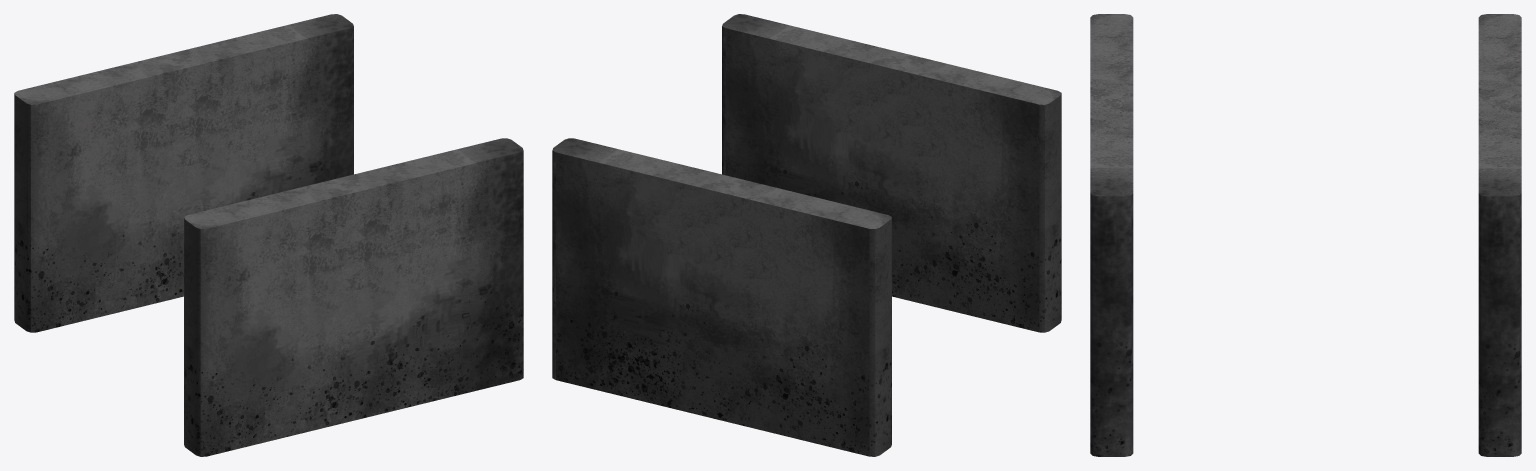
The model's file is MR_Corridor_L_Tex.fbx.
3 views of the same model, side by side, from view 1: azimuth 30°, elevation 25°; view 2: azimuth 150°, elevation 25°; view 3: azimuth 270°, elevation 25° (orthographic). The views are drawn at different scales.
Visible parts, largest first — view 1: pasted__pasted__pasted__M_Wall_Single, pasted__pasted__M_Wall_Single; view 2: pasted__pasted__M_Wall_Single, pasted__pasted__pasted__M_Wall_Single; view 3: pasted__pasted__pasted__M_Wall_Single, pasted__pasted__M_Wall_Single.
Boxes of the visible parts, box(x1,y1,x2,y2) form: pasted__pasted__pasted__M_Wall_Single: box(184, 138, 523, 456); pasted__pasted__M_Wall_Single: box(14, 14, 353, 332); pasted__pasted__M_Wall_Single: box(552, 138, 891, 456); pasted__pasted__pasted__M_Wall_Single: box(722, 14, 1061, 332); pasted__pasted__pasted__M_Wall_Single: box(1090, 14, 1133, 456); pasted__pasted__M_Wall_Single: box(1478, 14, 1521, 456).
Bounding box in the file's own units: 150 × 100 × 150.
1 material, 1 textured.
